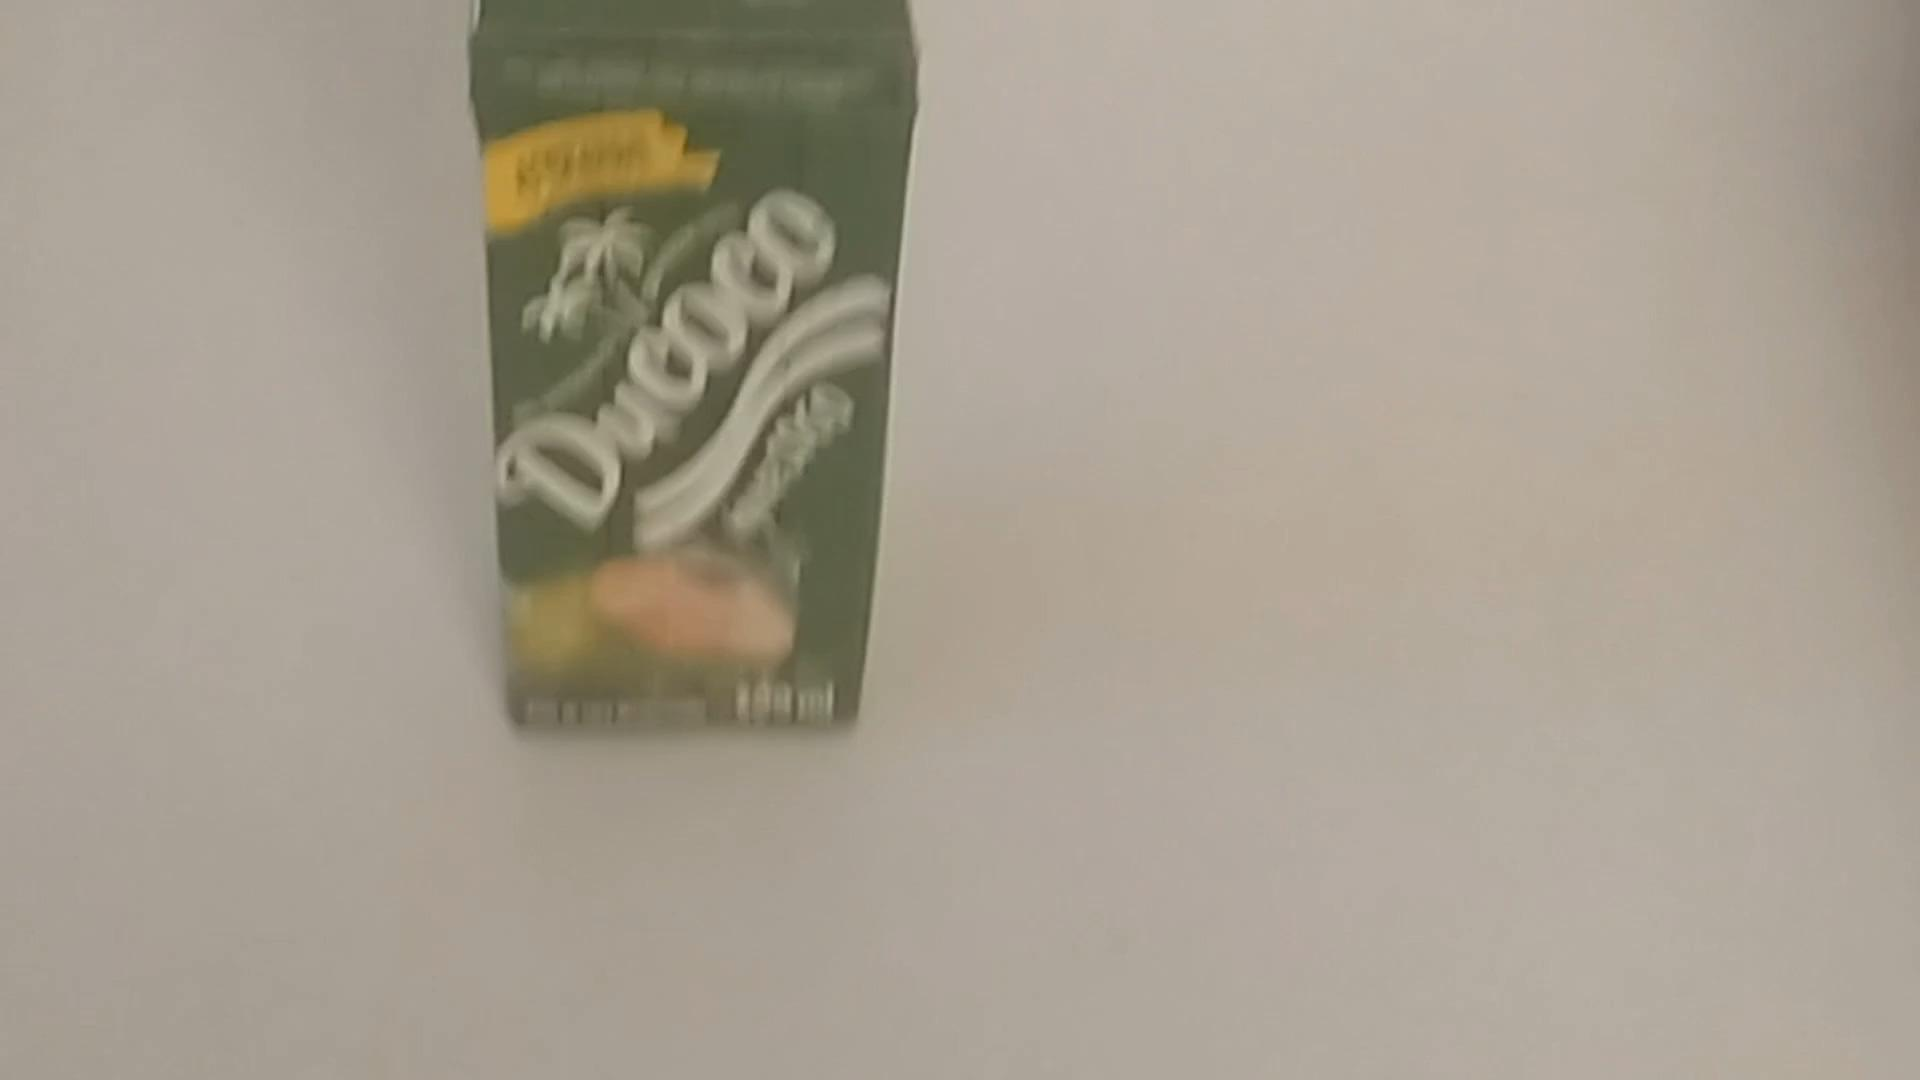coco: (472, 0, 914, 737)
